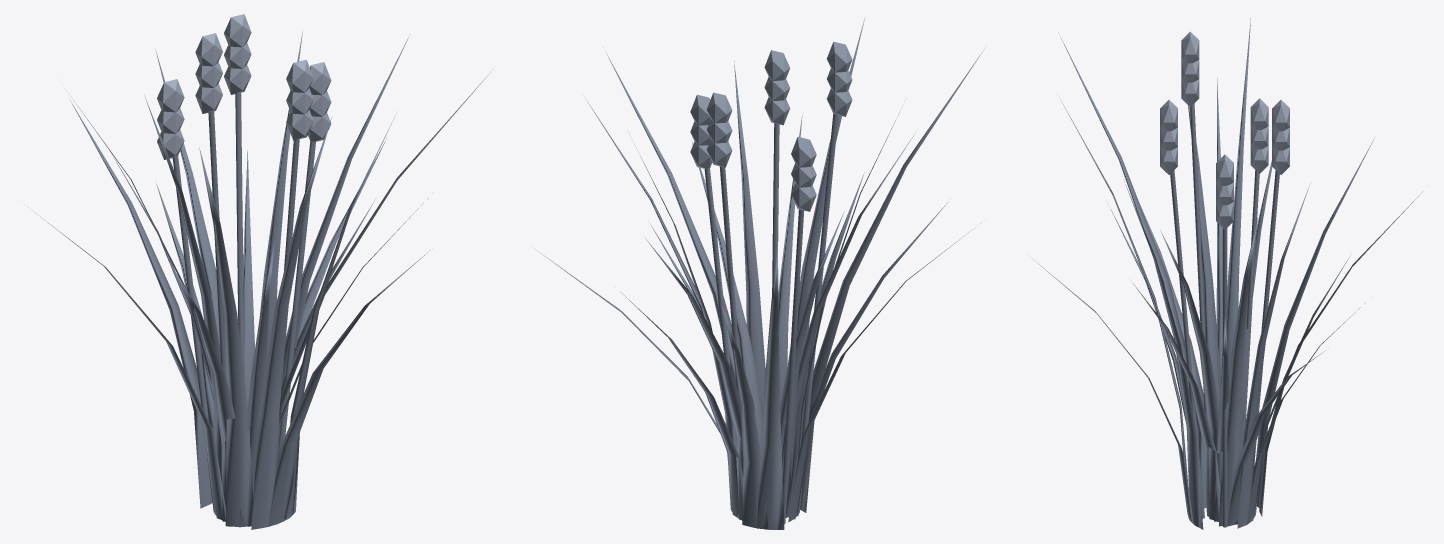
Rendered from garden-grass-clump.glb.
The picture shows the model from 3 angles, left to right: view 1: azimuth 30°, elevation 25°; view 2: azimuth 150°, elevation 25°; view 3: azimuth 270°, elevation 25°; orthographic projection. The views are drawn at different scales.
Parts seen in each view (by area): view 1: garden-grass-clump; view 2: garden-grass-clump; view 3: garden-grass-clump.
Part boxes in pixels (left/top/right/bottom): garden-grass-clump: left=24, top=14, right=495, bottom=529; garden-grass-clump: left=535, top=18, right=984, bottom=529; garden-grass-clump: left=1032, top=18, right=1423, bottom=529.
Size of the model in its own units: 0.75 by 0.8 by 0.65.
